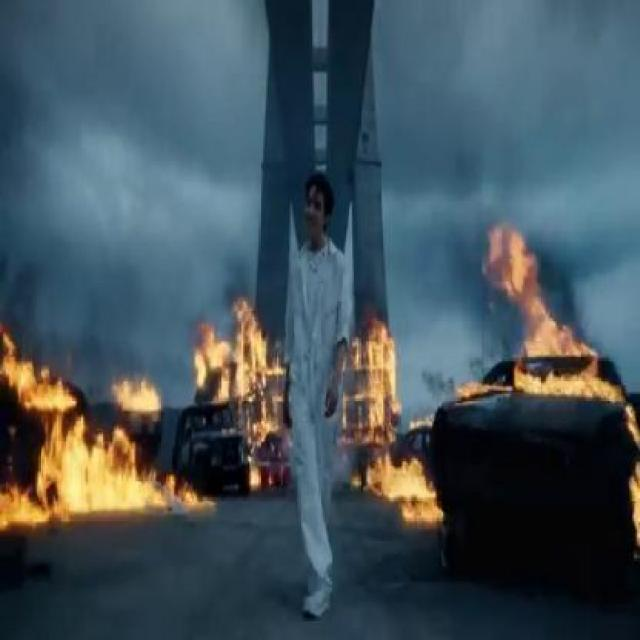fire: (44, 411, 178, 511), (529, 312, 622, 410), (1, 320, 77, 409), (366, 454, 439, 522), (197, 328, 263, 392), (360, 328, 394, 434)
smoke: (78, 252, 146, 368), (10, 249, 70, 348), (450, 229, 488, 340), (538, 248, 590, 312), (208, 232, 262, 291), (355, 258, 393, 318), (494, 299, 518, 350)
